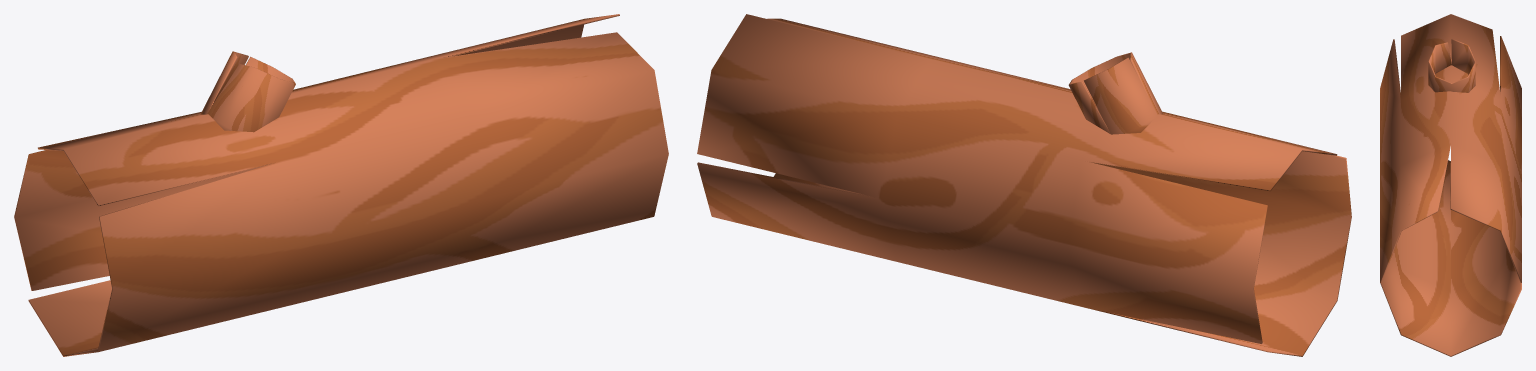
File: OBJ_Wood_001.fbx
3 renders of one model, left to right at view 1: azimuth 30°, elevation 25°; view 2: azimuth 150°, elevation 25°; view 3: azimuth 270°, elevation 25°, orthographic. The views are drawn at different scales.
Visible parts, largest first — view 1: Wood_001; view 2: Wood_001; view 3: Wood_001.
Part boxes in pixels (box(x1,y1,x2,y2)): Wood_001: box(14, 14, 668, 356); Wood_001: box(697, 14, 1351, 356); Wood_001: box(1380, 14, 1521, 356).
Size of the model in its own units: 1397 by 615 by 428.
